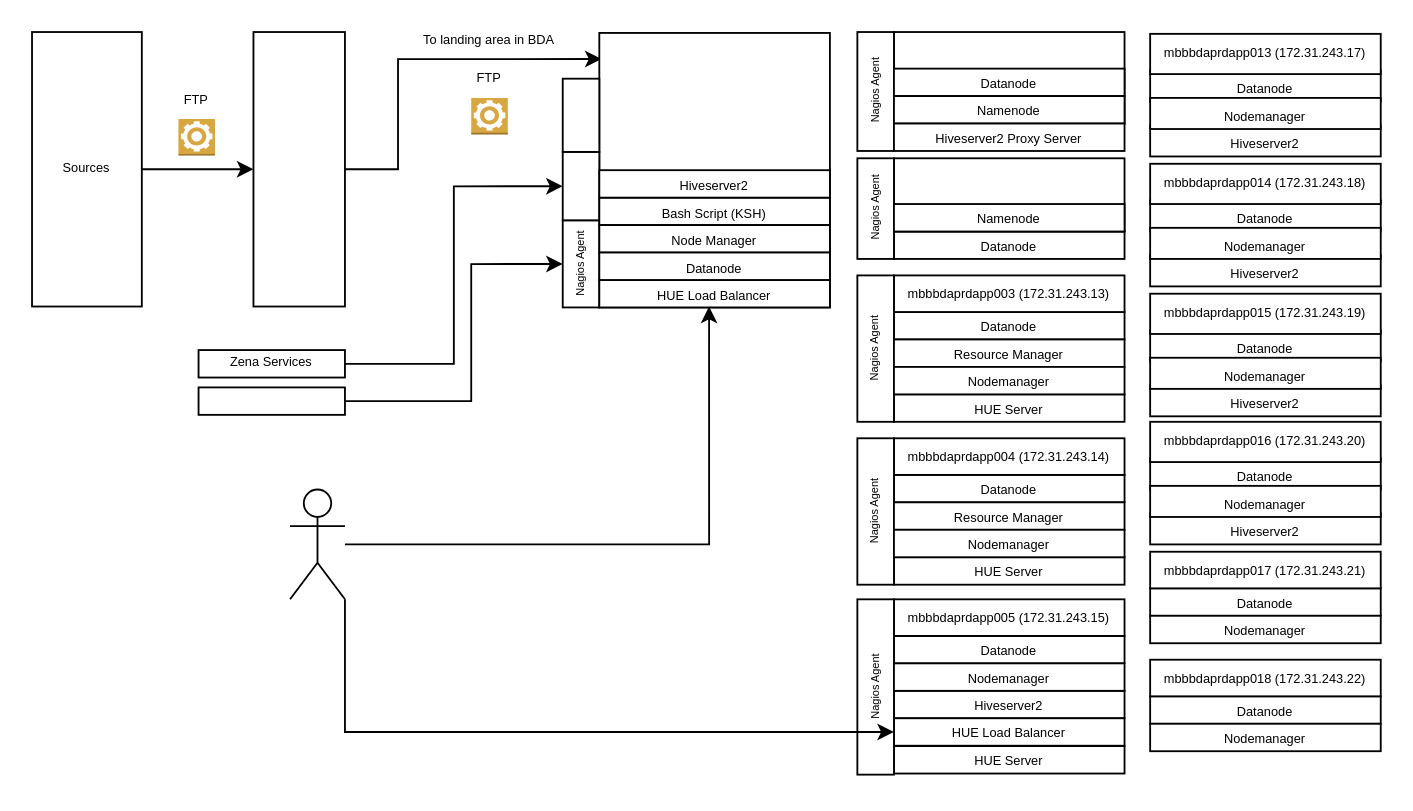
The diagram is 1413 pixels wide and 811 high, and some of its shapes have lost their labels. Here are the shapes that lost their labels. From the top down, the box of each, then its label:
(892, 30, 1125, 124): mbbbdaprdapp001 (172.31.243.11)
(561, 77, 599, 152): ODI Agent
(252, 30, 345, 307): ODS (Staging)
(561, 150, 599, 221): Zena Agent
(597, 31, 830, 307): mbbbdaprdapp006 (172.31.243.16)
(892, 156, 1125, 231): mbbbdaprdapp002 (172.31.243.12)
(197, 386, 345, 415): Nagios Services
(288, 488, 345, 599): User
